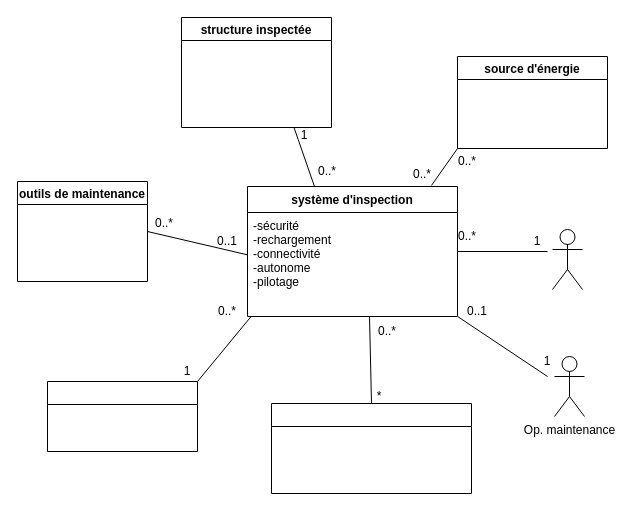
The diagram is 632 pixels wide and 511 high, and some of its shapes have lost their labels. Each missing label, with the centre of its shape:
"conditions environnementales" goes at point 371,448.
"Opérateur" goes at point 567,259.
"serveur" goes at point 122,416.
